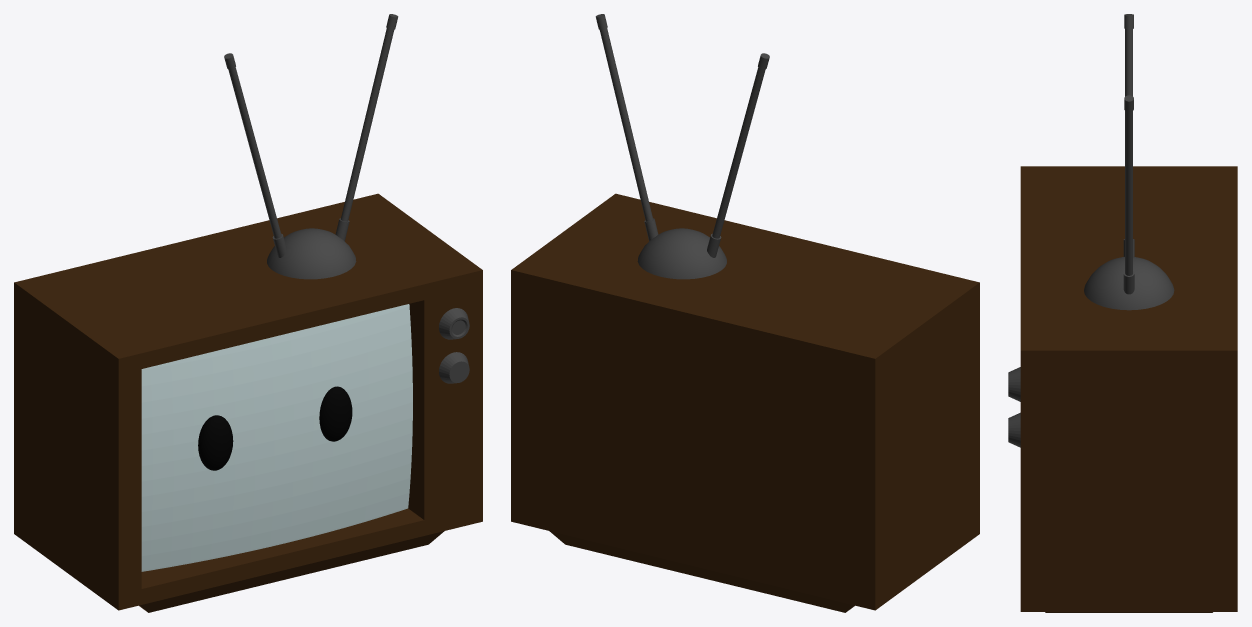
The picture shows the model from 3 angles, left to right: view 1: azimuth 30°, elevation 25°; view 2: azimuth 150°, elevation 25°; view 3: azimuth 270°, elevation 25°; orthographic projection. The views are drawn at different scales.
Parts seen in each view (by area): view 1: Cube, Cube.001, Sphere, Cylinder.002, Cylinder.003, Sphere.001, Sphere.002, Cylinder.001, Cylinder; view 2: Cube, Sphere, Cylinder.002, Cylinder.003; view 3: Cube, Sphere, Cylinder.002, Cylinder.003, Cylinder.001, Cylinder.
Part boxes in pixels (left/top/right/bottom): Cube: left=14, top=193, right=482, bottom=612; Cube.001: left=141, top=304, right=412, bottom=571; Sphere: left=267, top=228, right=356, bottom=279; Cylinder.002: left=335, top=14, right=398, bottom=241; Cylinder.003: left=224, top=53, right=286, bottom=257; Sphere.001: left=198, top=415, right=233, bottom=470; Sphere.002: left=319, top=386, right=352, bottom=441; Cylinder.001: left=439, top=352, right=469, bottom=383; Cylinder: left=439, top=308, right=469, bottom=339; Cube: left=511, top=193, right=979, bottom=612; Sphere: left=637, top=228, right=726, bottom=279; Cylinder.002: left=595, top=14, right=658, bottom=241; Cylinder.003: left=707, top=53, right=769, bottom=257; Cube: left=1020, top=166, right=1237, bottom=612; Sphere: left=1084, top=256, right=1174, bottom=310; Cylinder.002: left=1123, top=95, right=1134, bottom=294; Cylinder.003: left=1123, top=14, right=1134, bottom=256; Cylinder.001: left=1008, top=412, right=1020, bottom=447; Cylinder: left=1008, top=367, right=1020, bottom=401.
Bounding box in the file's own units: 403 × 527 × 211.
